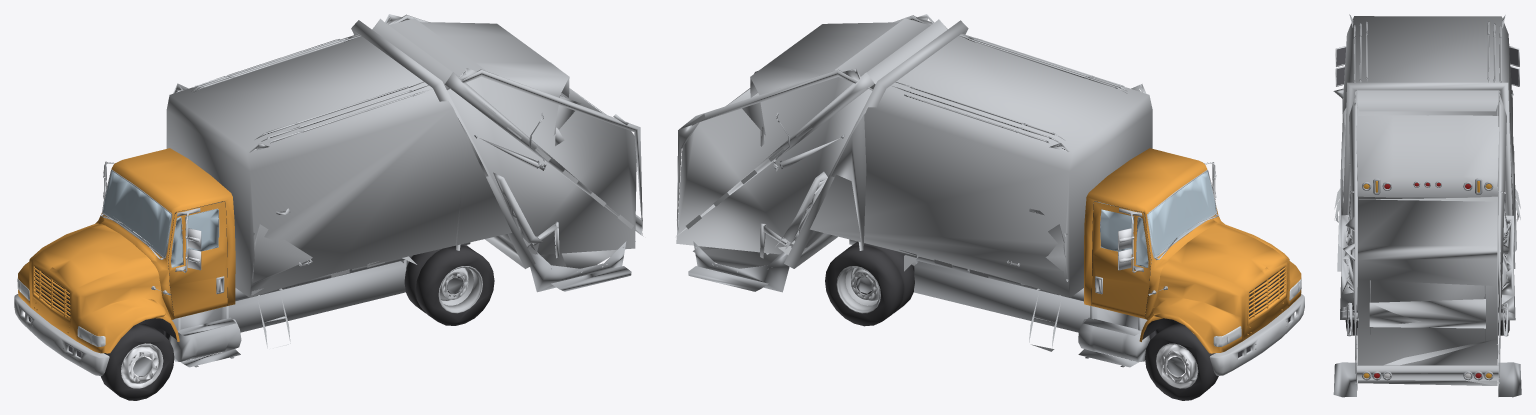
File: archmodels55-21.glb
The picture shows the model from 3 angles, left to right: view 1: azimuth 30°, elevation 25°; view 2: azimuth 150°, elevation 25°; view 3: azimuth 270°, elevation 25°; orthographic projection. The views are drawn at different scales.
Visible parts, largest first — view 1: Archmodels55_21_container, Archmodels55_21_carpaint, Archmodels55_21_frame, Archmodels55_21_tires, Archmodels55_21_glass, Archmodels55_21_bumper, Archmodels55_21_chrome, Archmodels55_21_riml, Archmodels55_21_black, Archmodels55_21_reflect_lights; view 2: Archmodels55_21_container, Archmodels55_21_carpaint, Archmodels55_21_frame, Archmodels55_21_tires, Archmodels55_21_glass, Archmodels55_21_bumper, Archmodels55_21_chrome, Archmodels55_21_rimr, Archmodels55_21_black, Archmodels55_21_reflect_lights; view 3: Archmodels55_21_container, Archmodels55_21_frame, Archmodels55_21_taillights_frames, Archmodels55_21_mirrors, Archmodels55_21_tires, Archmodels55_21_chrome, Archmodels55_21_orange_lights.
Part boxes in pixels (bbox=[...]): Archmodels55_21_container: bbox=[166, 14, 643, 348]; Archmodels55_21_carpaint: bbox=[18, 148, 235, 353]; Archmodels55_21_frame: bbox=[133, 39, 631, 376]; Archmodels55_21_tires: bbox=[28, 243, 494, 400]; Archmodels55_21_glass: bbox=[103, 171, 220, 267]; Archmodels55_21_bumper: bbox=[14, 170, 224, 375]; Archmodels55_21_chrome: bbox=[100, 161, 201, 388]; Archmodels55_21_riml: bbox=[438, 266, 482, 313]; Archmodels55_21_black: bbox=[35, 201, 227, 357]; Archmodels55_21_reflect_lights: bbox=[251, 105, 633, 295]; Archmodels55_21_container: bbox=[675, 14, 1152, 351]; Archmodels55_21_carpaint: bbox=[1084, 148, 1301, 353]; Archmodels55_21_frame: bbox=[688, 39, 1185, 376]; Archmodels55_21_tires: bbox=[825, 241, 1290, 400]; Archmodels55_21_glass: bbox=[1098, 171, 1216, 267]; Archmodels55_21_bumper: bbox=[1095, 169, 1304, 375]; Archmodels55_21_chrome: bbox=[1118, 162, 1218, 388]; Archmodels55_21_rimr: bbox=[836, 266, 880, 313]; Archmodels55_21_black: bbox=[1091, 201, 1284, 357]; Archmodels55_21_reflect_lights: bbox=[686, 106, 988, 277]; Archmodels55_21_container: bbox=[1333, 14, 1520, 388]; Archmodels55_21_frame: bbox=[1333, 22, 1521, 397]; Archmodels55_21_taillights_frames: bbox=[1362, 178, 1493, 380]; Archmodels55_21_mirrors: bbox=[1337, 47, 1518, 85]; Archmodels55_21_tires: bbox=[1345, 286, 1509, 335]; Archmodels55_21_chrome: bbox=[1335, 46, 1519, 86]; Archmodels55_21_orange_lights: bbox=[1363, 181, 1491, 378].
Bounding box in the file's own units: 9.69 × 4.15 × 2.91.
